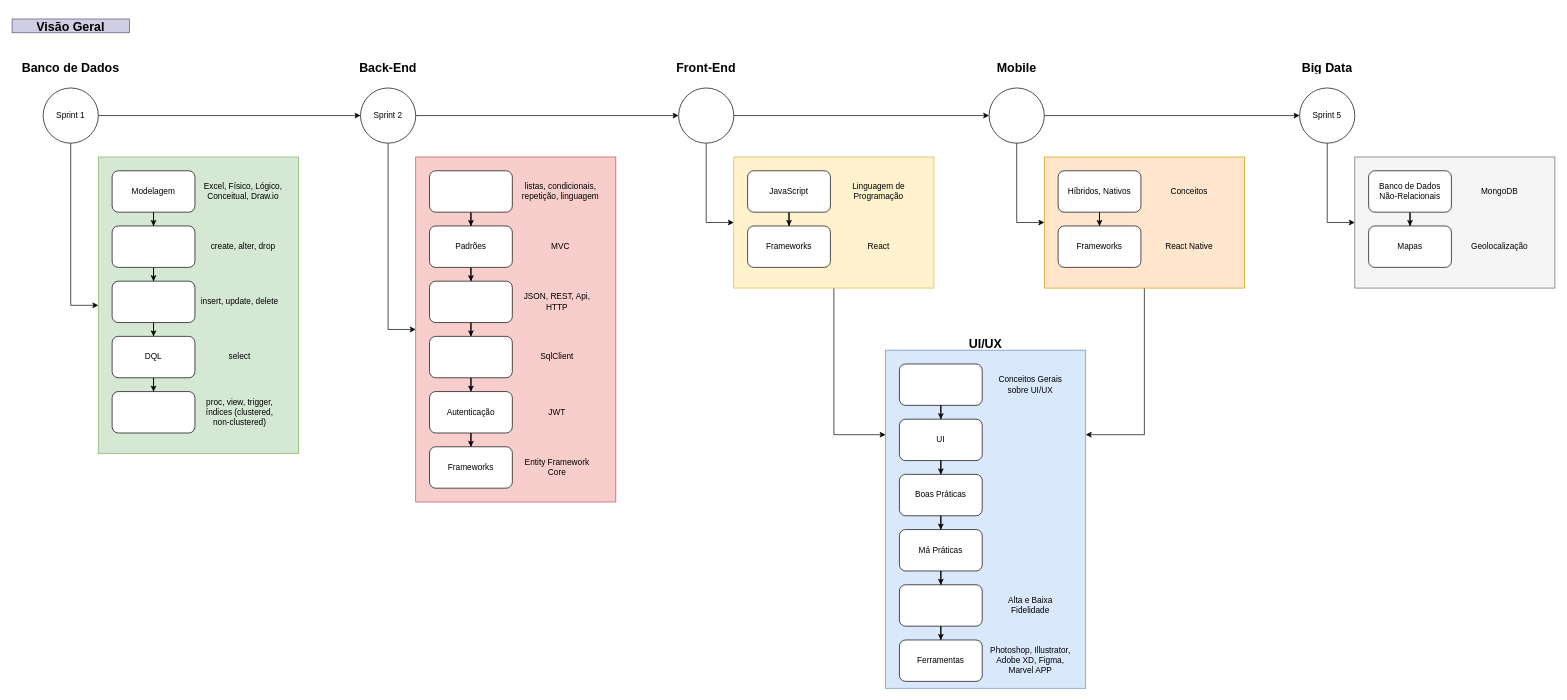
The diagram is 1567 pixels wide and 700 high, and some of its shapes have lost their labels. The centre of each missing label's shape, as x and y in pixels:
C#: point 470,191
Comunicação com o BD: point 470,357
DDL: point 153,246
DML: point 153,301
Layouts: point 940,605
Procedures, Views, Triggers, Functions, Índices: point 153,412
Sprint 3: point 706,115
Sprint 4: point 1016,115
UX: point 940,384
Web Api: point 470,301
